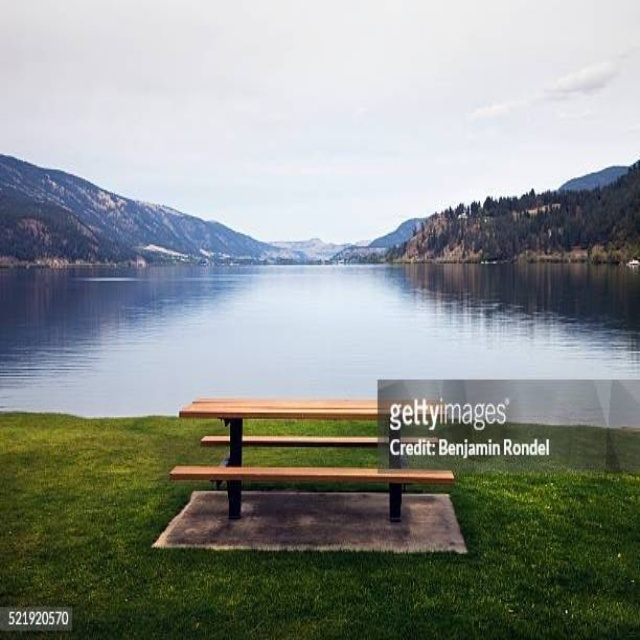obstacle: (170, 398, 452, 519)
